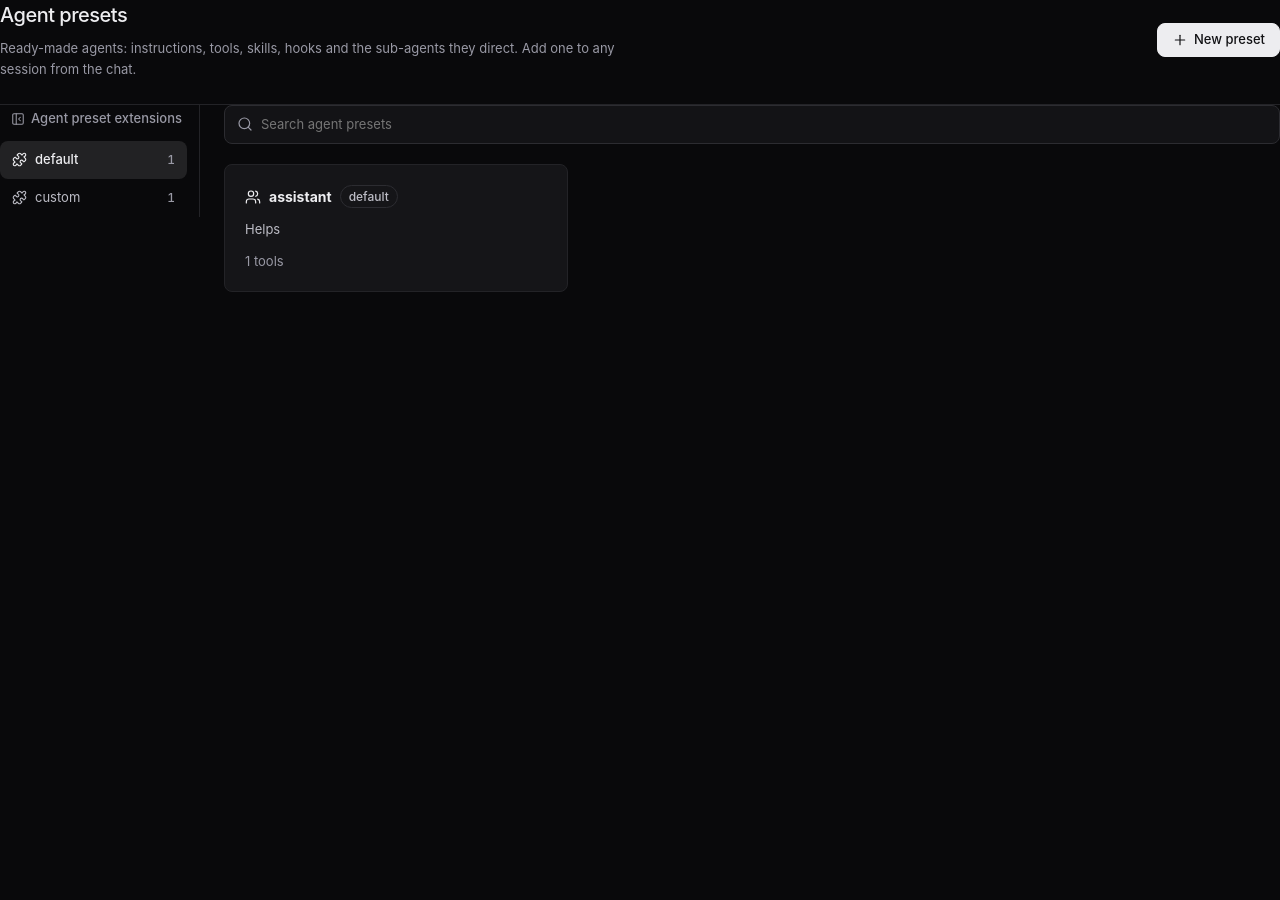
Test case: PresetsPage › shows the tools of a built-in preset without letting them change
Click the text "assistant": (321, 197) [245,185,398,208]
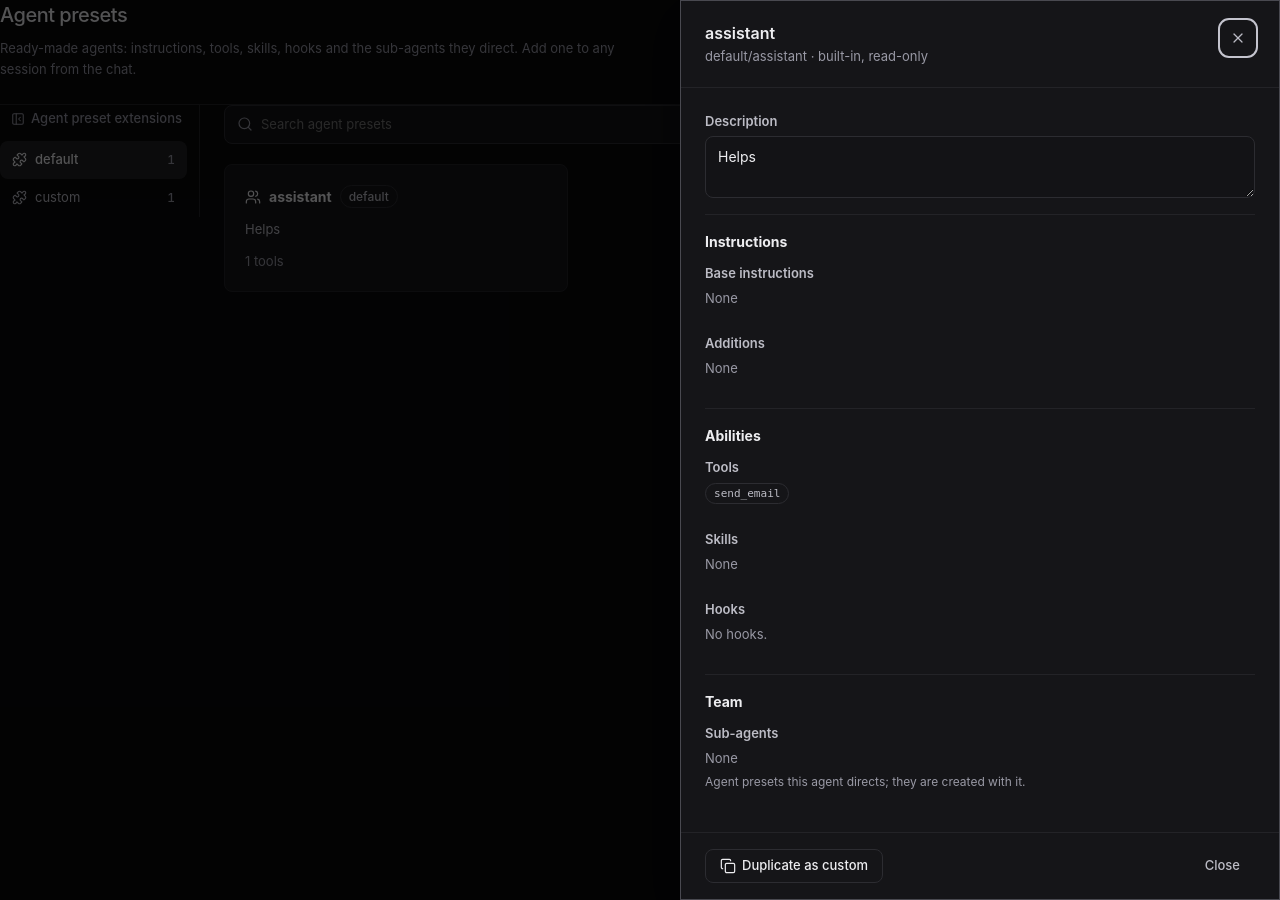
Check: the text "send_email" is shown, box [714,484,780,502]
